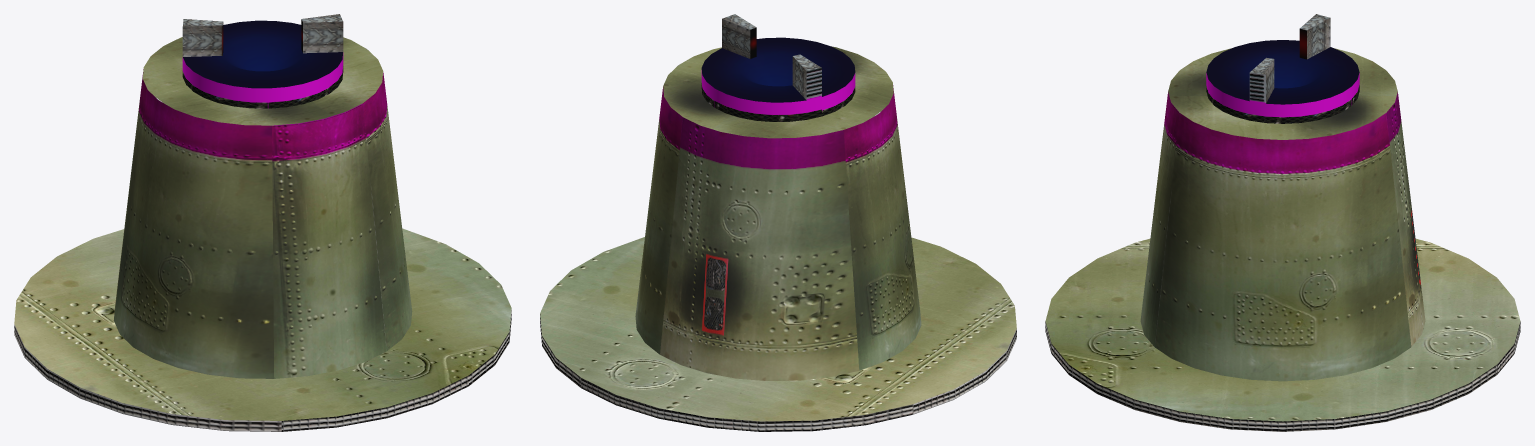
The model's file is towerB_pink.fbx.
3 views of the same model, side by side, from view 1: azimuth 30°, elevation 25°; view 2: azimuth 150°, elevation 25°; view 3: azimuth 270°, elevation 25° (orthographic). The views are drawn at different scales.
Visible parts, largest first — view 1: pCylinder1; view 2: pCylinder1; view 3: pCylinder1.
Boxes of the visible parts, x1,y1,x2,y2 form: pCylinder1: [14, 14, 511, 431]; pCylinder1: [540, 14, 1016, 431]; pCylinder1: [1045, 14, 1520, 431].
Size of the model in its own units: 24.3 by 16.28 by 24.3.
Materials: 1 (1 with a texture image).
